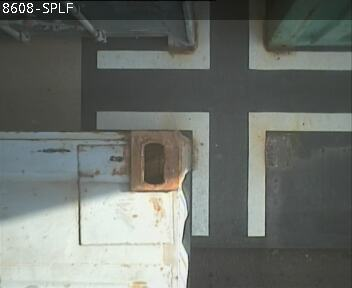groundmarker_1: (96, 112, 352, 234)
